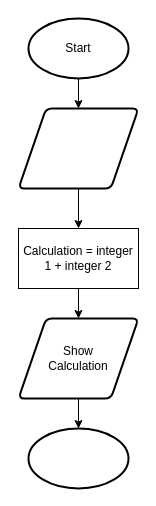
Image size: 156x506. Some labels were removed from this diagram. The shapes that lost their labels are listed below. From the top down, each one's centre as x and y in pixels, then its label:
At point 78,148: "Get 2 integers".
At point 78,458: "Stop".
